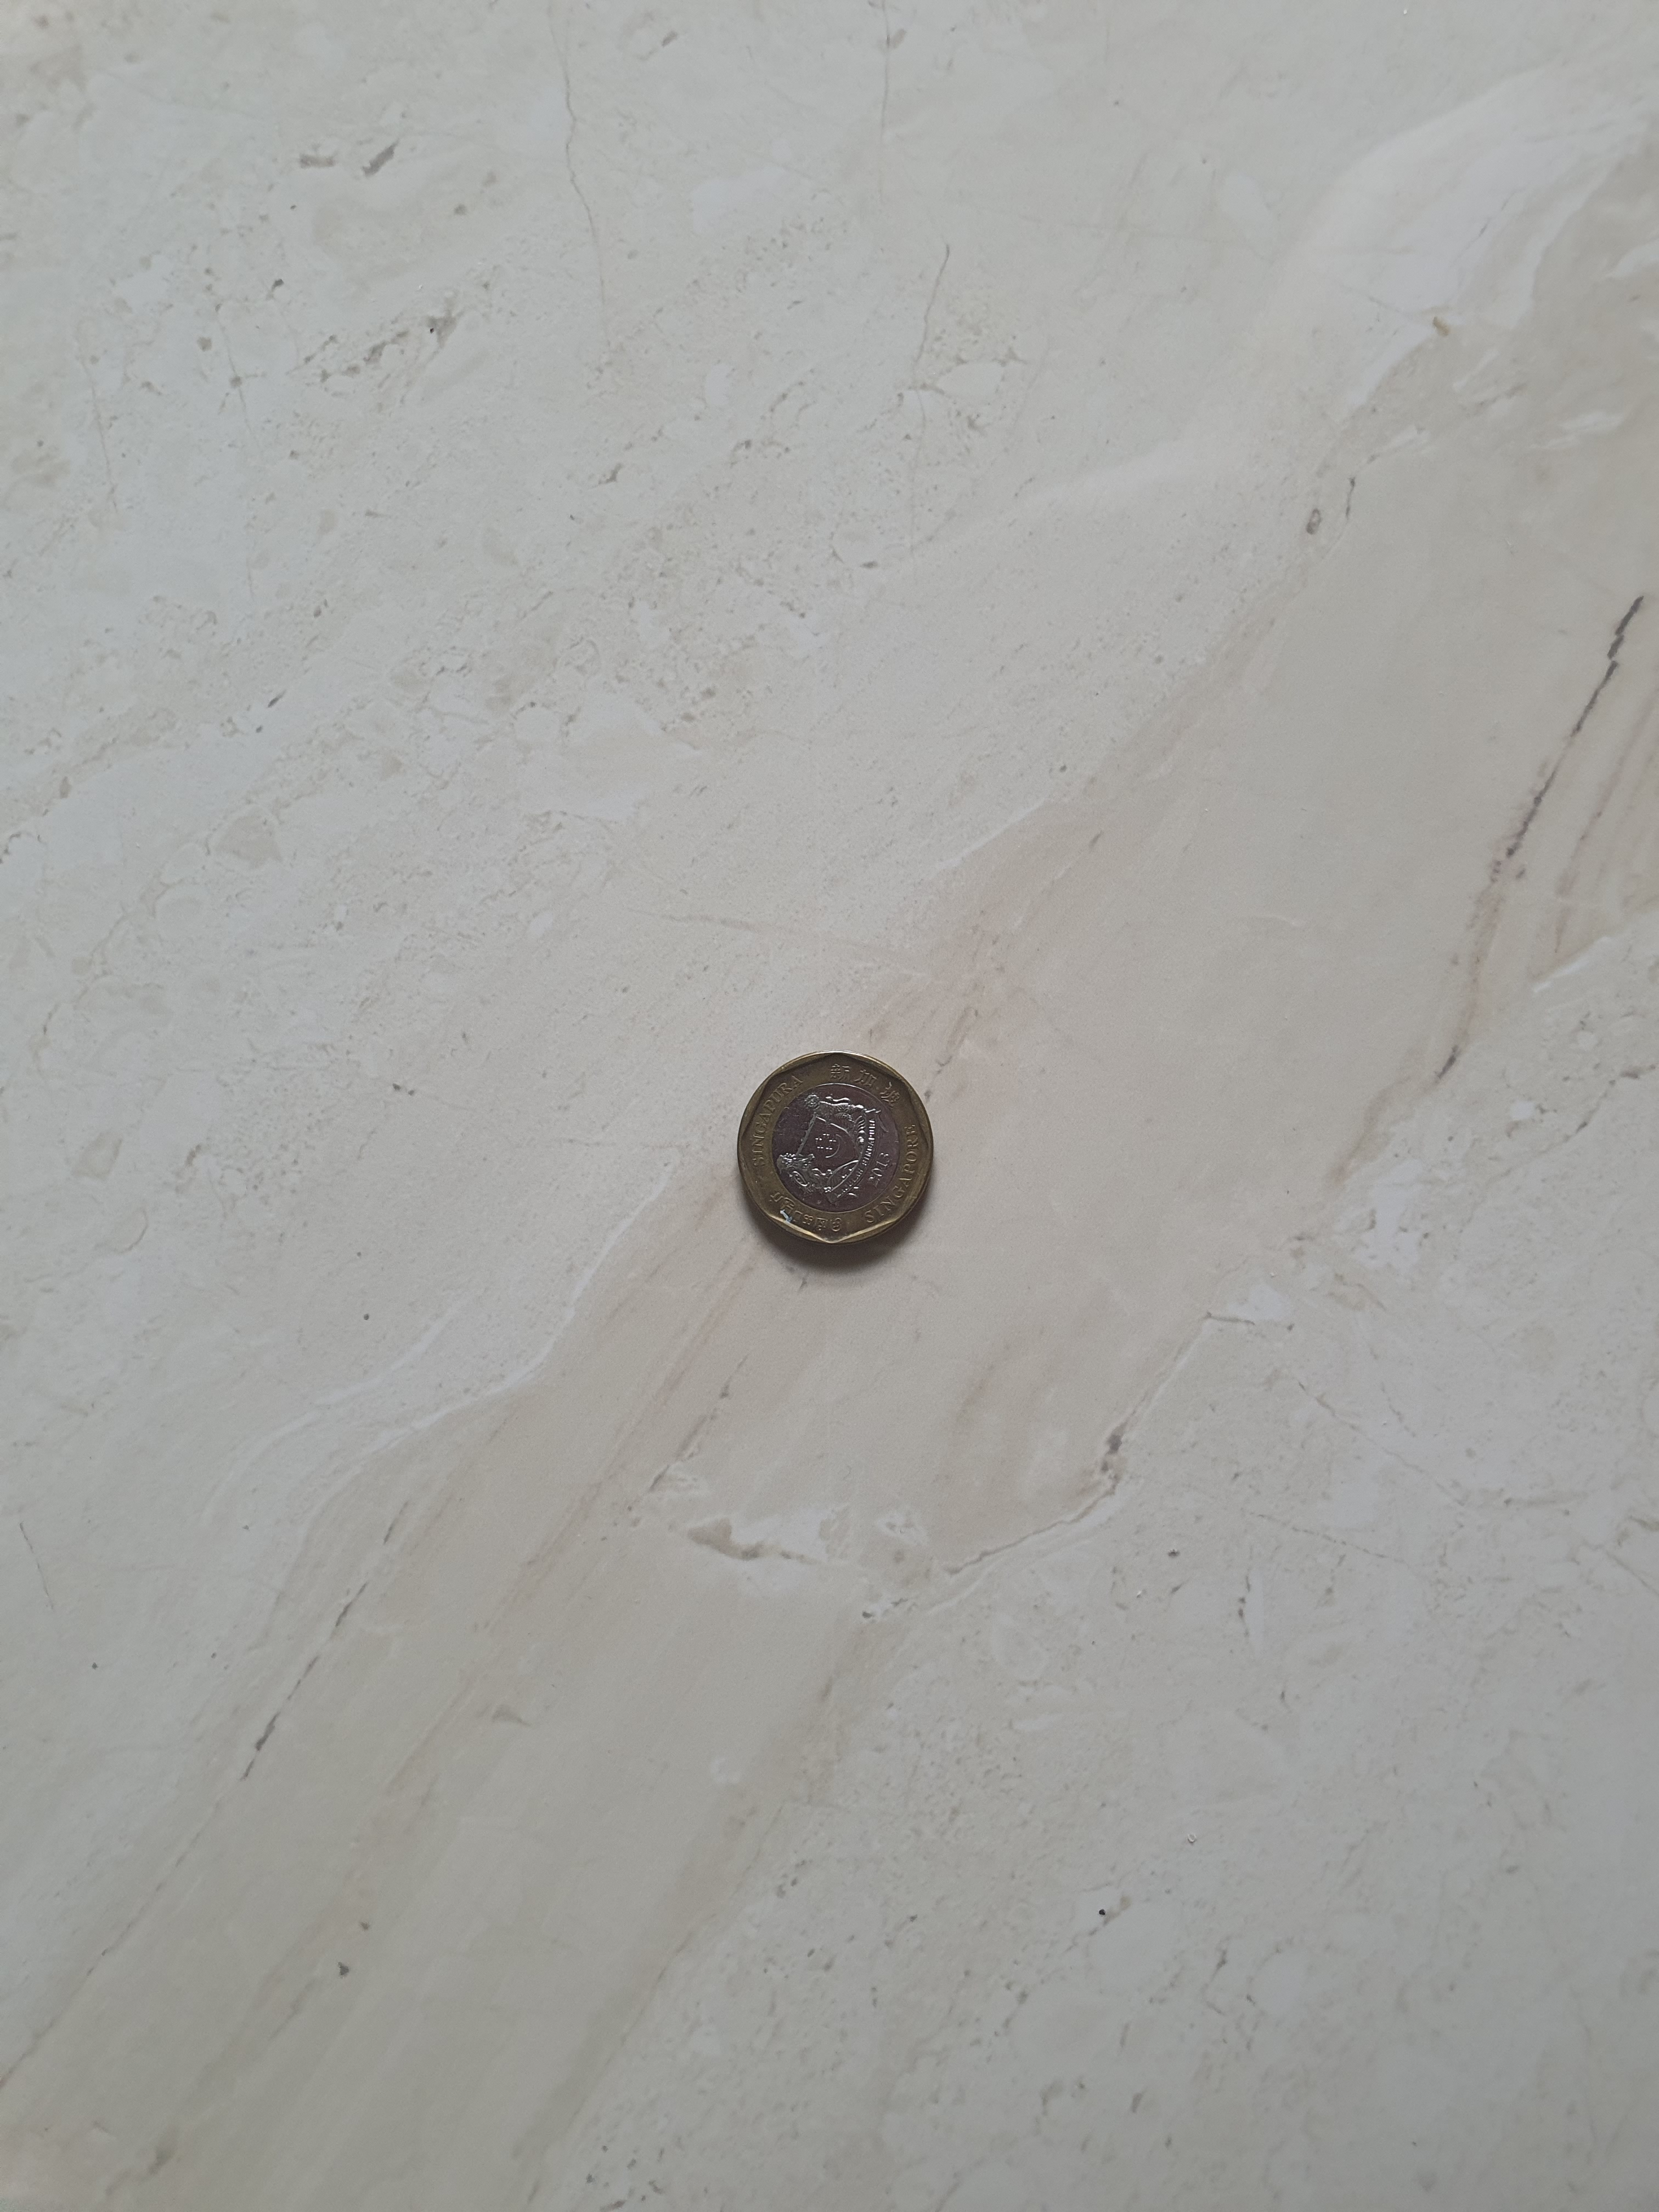$1: (737, 1050, 936, 1245)
